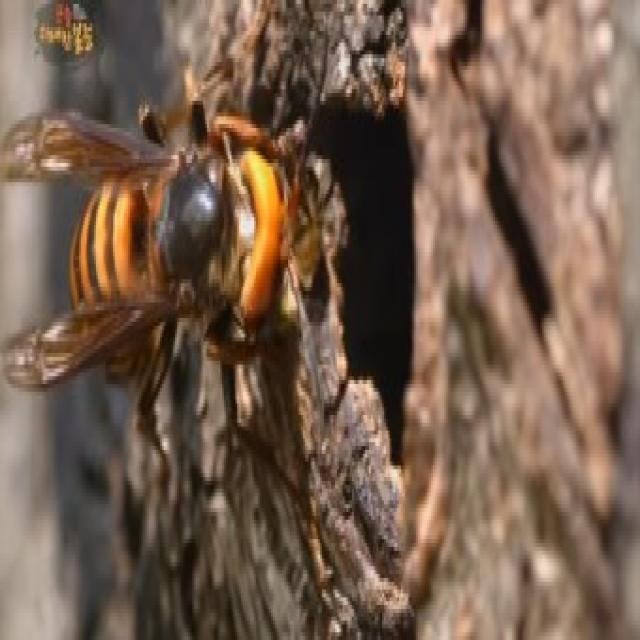Wasp: (22, 66, 293, 461)
